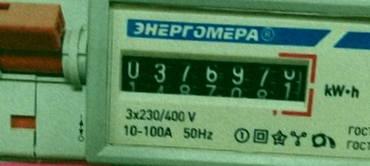0: (123, 57, 138, 79)
1: (280, 80, 291, 101)
3: (151, 62, 166, 83)
6: (202, 60, 218, 83)
7: (176, 60, 192, 84), (254, 65, 270, 88)
9: (228, 63, 243, 85)
screen: (108, 36, 320, 120)
